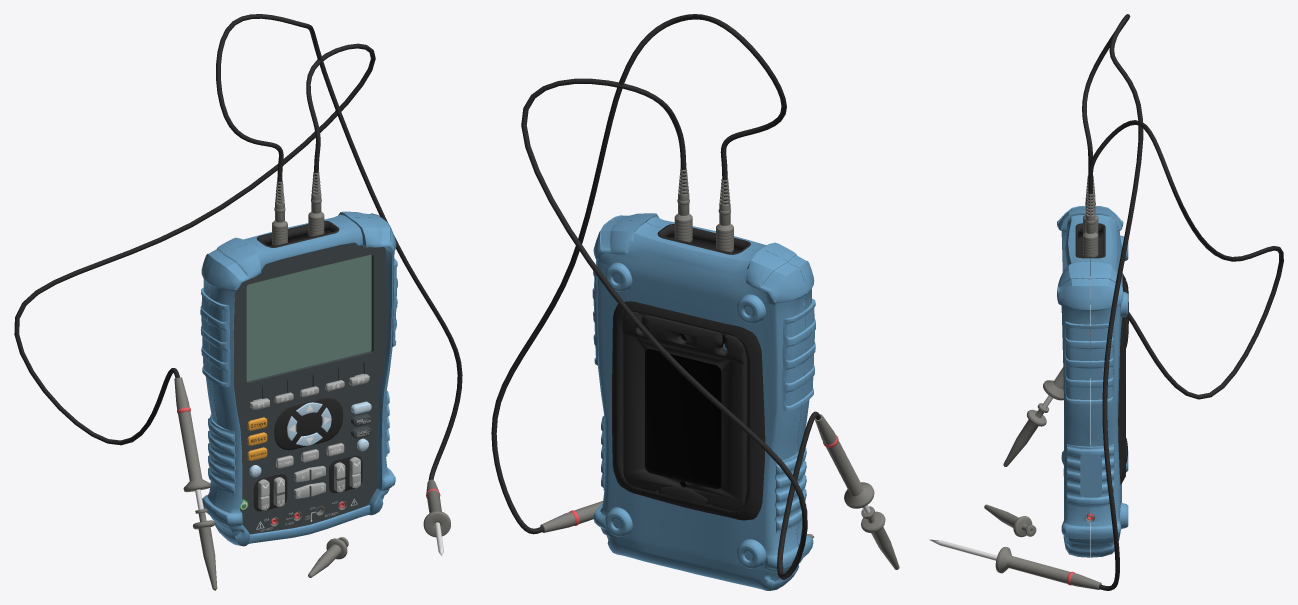
The picture shows the model from 3 angles, left to right: view 1: azimuth 30°, elevation 25°; view 2: azimuth 150°, elevation 25°; view 3: azimuth 270°, elevation 25°; orthographic projection. The views are drawn at different scales.
Parts seen in each view (by area): view 1: Cube, Cube.002, NurbsCurve, Plane, Cylinder.007, Cube.009, Cube.007, Cube.010, Cube.011; view 2: Cube.002, NurbsCurve, Cylinder.007; view 3: Cube.002, NurbsCurve, Cylinder.007, Cylinder.008.
Boxes of the visible parts, x1,y1,x2,y2 form: Cube: (233, 242, 386, 534); Cube.002: (200, 211, 397, 546); NurbsCurve: (14, 14, 462, 511); Plane: (246, 254, 371, 381); Cylinder.007: (174, 171, 450, 590); Cube.009: (258, 457, 360, 510); Cube.007: (247, 401, 371, 468); Cube.010: (250, 373, 369, 409); Cube.011: (287, 402, 331, 445); Cube.002: (592, 213, 815, 590); NurbsCurve: (491, 14, 820, 579); Cylinder.007: (540, 168, 899, 569); Cube.002: (1057, 205, 1128, 557); NurbsCurve: (1075, 14, 1283, 590); Cylinder.007: (984, 175, 1101, 589); Cylinder.008: (929, 395, 1052, 560).
Bounding box in the file's own units: 1687 × 2286 × 1466.
8 materials, 1 textured.
